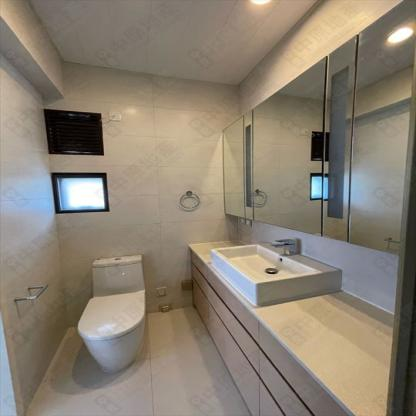Exhaust Fan: (45, 108, 102, 154)
Faucet: (262, 234, 311, 255)
Toilet: (78, 252, 145, 373)
Toilet Sink: (208, 241, 342, 305)
